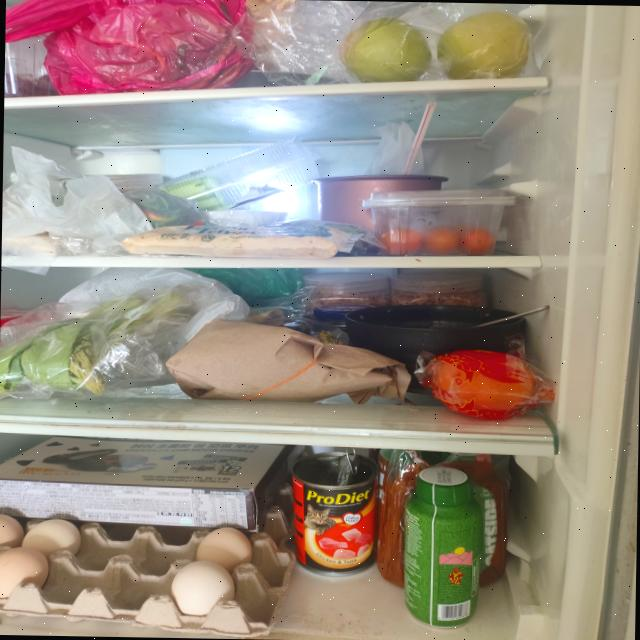apple: (437, 10, 532, 80), (339, 16, 431, 84)
egg: (0, 512, 295, 637)
leafy_greens: (0, 288, 191, 396)
orange: (428, 349, 538, 418)
tempeh: (120, 222, 351, 260)
unknown_bag: (4, 0, 254, 97)
